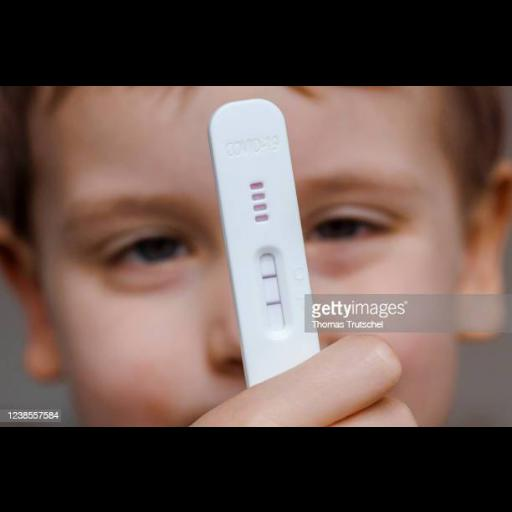Pos: (205, 95, 320, 366)
